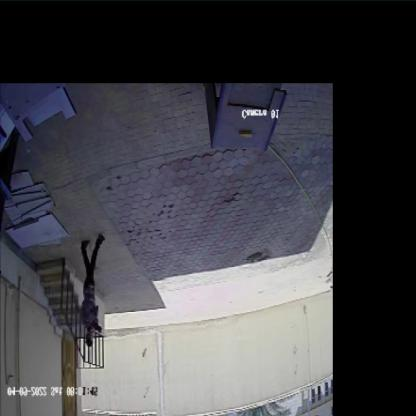handgun: (83, 310, 107, 339)
